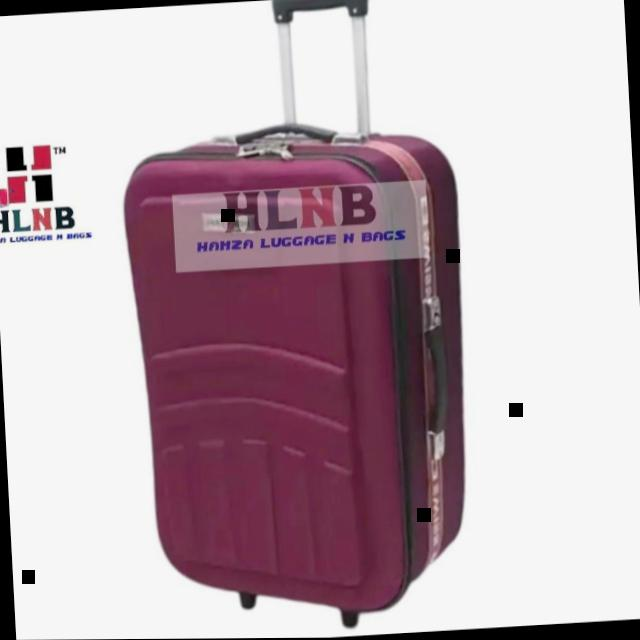luggage: (113, 109, 487, 633)
